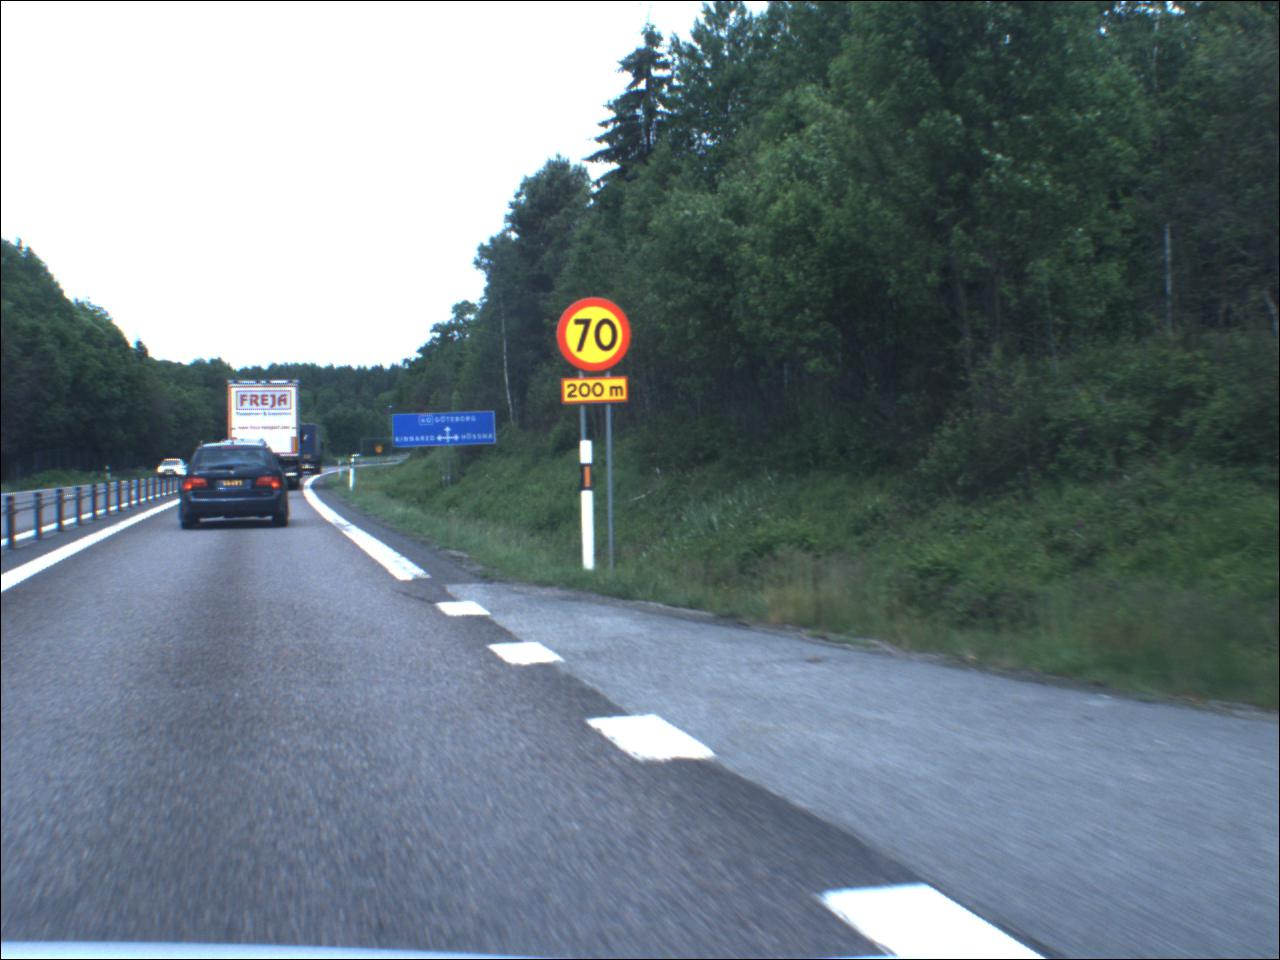70_SIGN: (561, 299, 633, 373)
